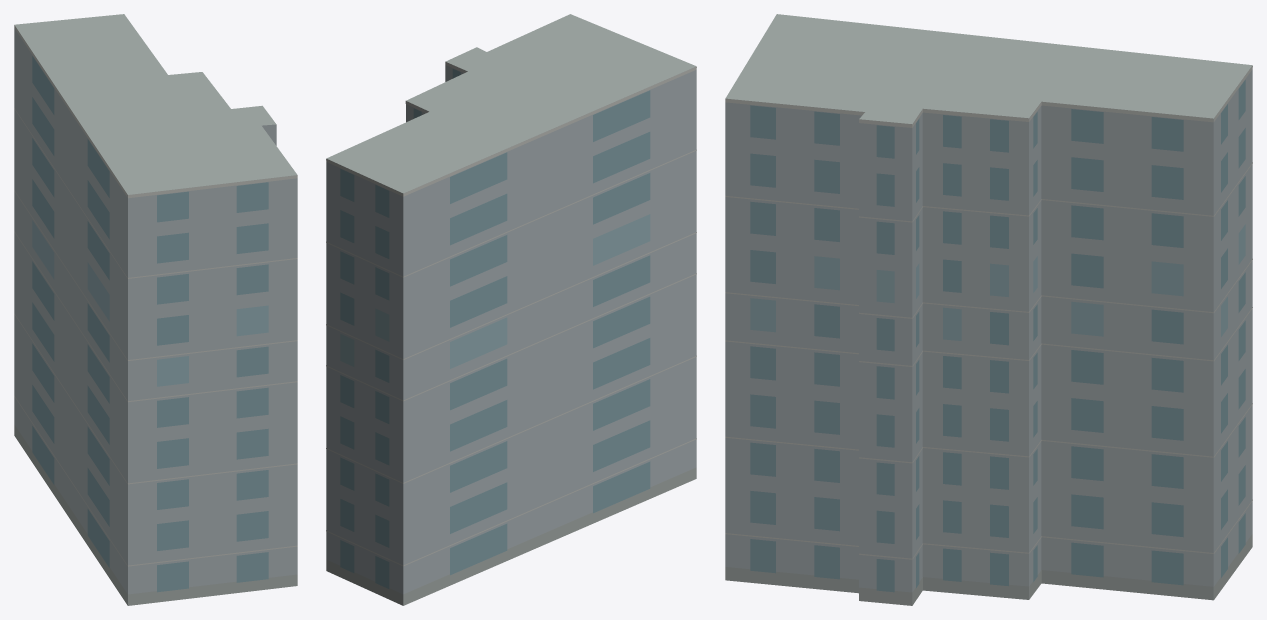
The model's file is survey-upis-32522402.glb.
The picture shows the model from 3 angles, left to right: view 1: azimuth 30°, elevation 25°; view 2: azimuth 150°, elevation 25°; view 3: azimuth 270°, elevation 25°; orthographic projection. The views are drawn at different scales.
Visible parts, largest first — view 1: survey-upis-32522402.tmp; view 2: survey-upis-32522402.tmp; view 3: survey-upis-32522402.tmp.
Part boxes in pixels (x1,y1,x2,y2): survey-upis-32522402.tmp: (14,14,297,605); survey-upis-32522402.tmp: (326,14,696,605); survey-upis-32522402.tmp: (725,14,1252,605).
Bounding box in the file's own units: 14.98 × 30.5 × 30.28.
